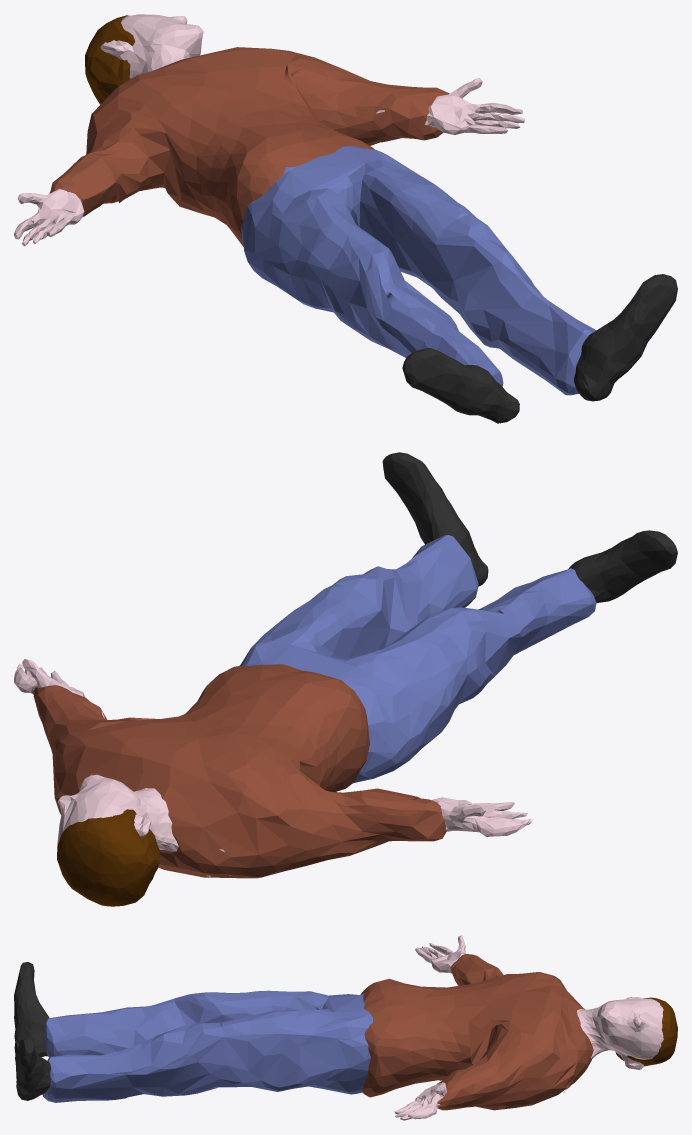
Rendered from MâlaiméKO.fbx.
3 views of the same model, one above another, from view 1: azimuth 30°, elevation 25°; view 2: azimuth 150°, elevation 25°; view 3: azimuth 270°, elevation 25° (orthographic). The views are drawn at different scales.
Visible parts, largest first — view 1: Jeune Homme; view 2: Jeune Homme; view 3: Jeune Homme.
Part boxes in pixels (x1,y1,x2,y2): Jeune Homme: (14, 14, 677, 423); Jeune Homme: (14, 452, 677, 906); Jeune Homme: (14, 935, 677, 1120).
Bounding box in the file's own units: 108 × 24.71 × 165.
